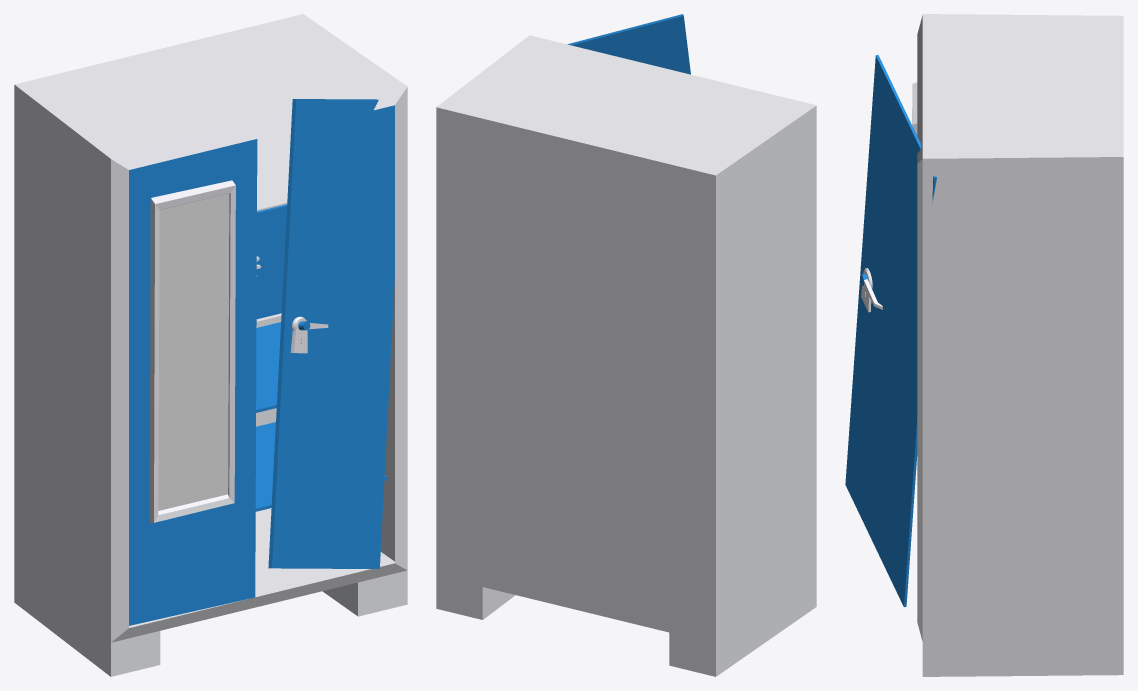
Rendered from Almirah.glb.
The picture shows the model from 3 angles, left to right: view 1: azimuth 30°, elevation 25°; view 2: azimuth 150°, elevation 25°; view 3: azimuth 270°, elevation 25°; orthographic projection. The views are drawn at different scales.
Visible parts, largest first — view 1: Body, Door-Right, Door-Left, mirror, Locker Plane Face, Locker Plane Up, Rack 2, Rack 1; view 2: Body, Door-Right; view 3: Body, Door-Right.
Boxes of the visible parts, x1,y1,x2,y2 form: Body: (14, 14, 407, 676); Door-Right: (268, 99, 394, 568); Door-Left: (129, 139, 257, 625); mirror: (149, 180, 235, 522); Locker Plane Face: (256, 204, 287, 319); Locker Plane Up: (257, 130, 290, 209); Rack 2: (256, 322, 280, 412); Rack 1: (255, 422, 387, 511); Body: (436, 35, 816, 676); Door-Right: (567, 14, 690, 74); Body: (917, 14, 1123, 676); Door-Right: (845, 54, 936, 607).
Size of the model in its own units: 4.11 by 7.3 by 3.31.
